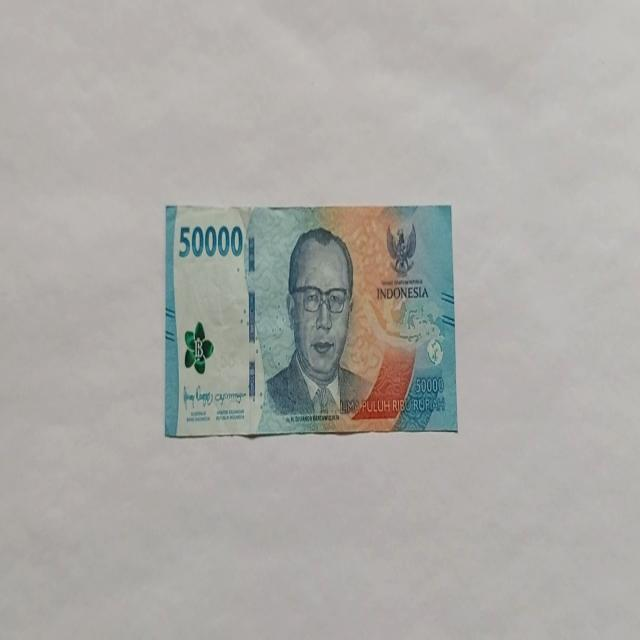lima puluh ribu rupiah: (164, 202, 458, 439), (262, 226, 374, 420)
